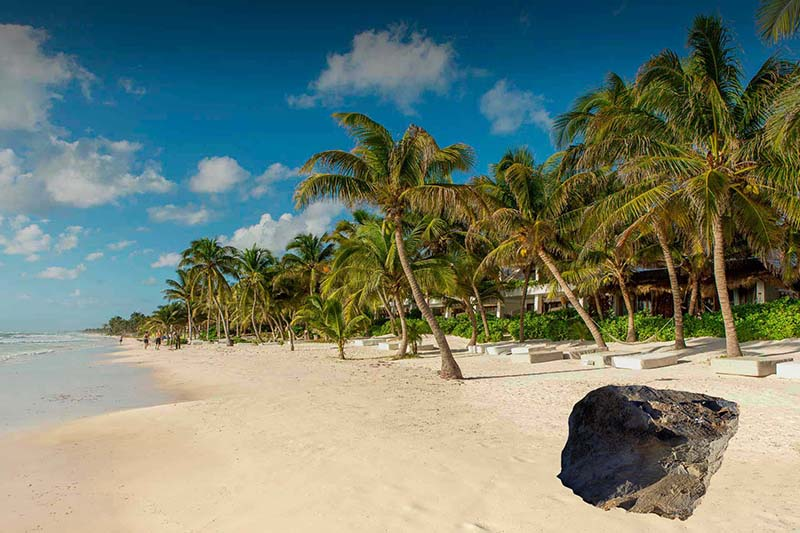Rocks: (554, 381, 743, 529)
